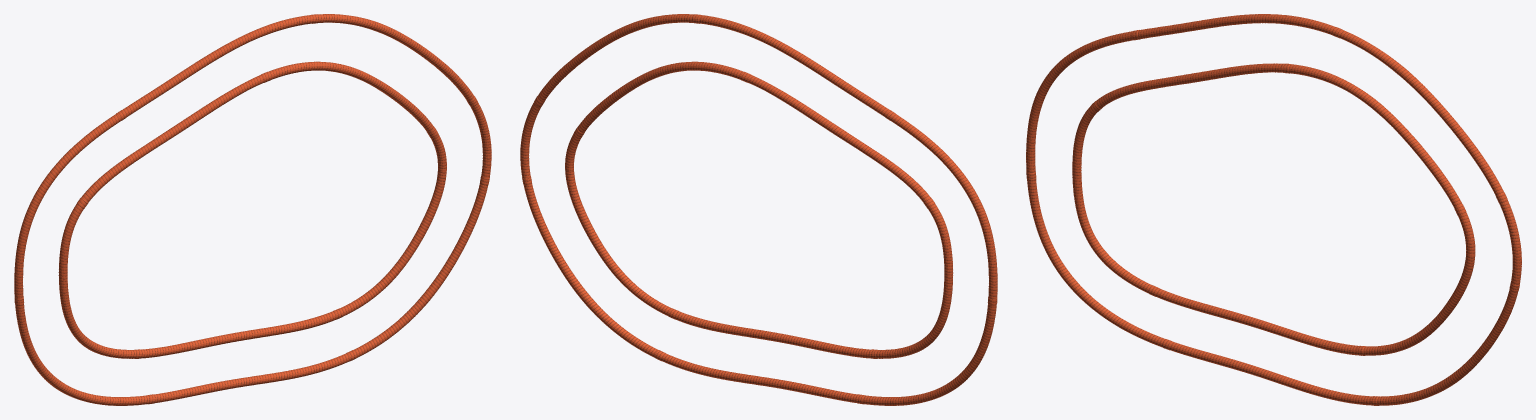
The model's file is ducts.obj.
3 renders of one model, left to right at view 1: azimuth 30°, elevation 25°; view 2: azimuth 150°, elevation 25°; view 3: azimuth 330°, elevation 25°, orthographic. The views are drawn at different scales.
Bounding box in the file's own units: 18 × 13.01 × 0.3163.
Materials: 1 (1 with a texture image).
